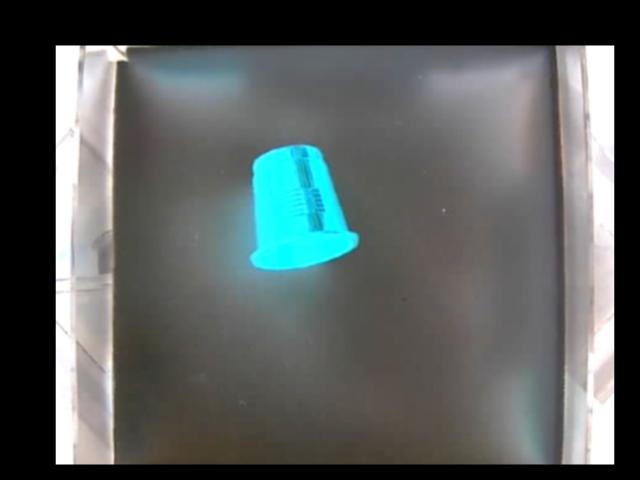Cup: (244, 145, 363, 268)
